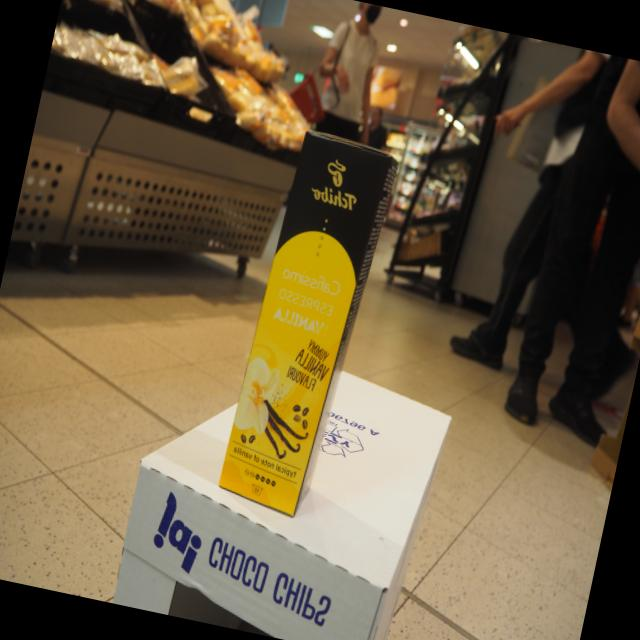Simo Es Vanilla: (217, 127, 393, 519)
